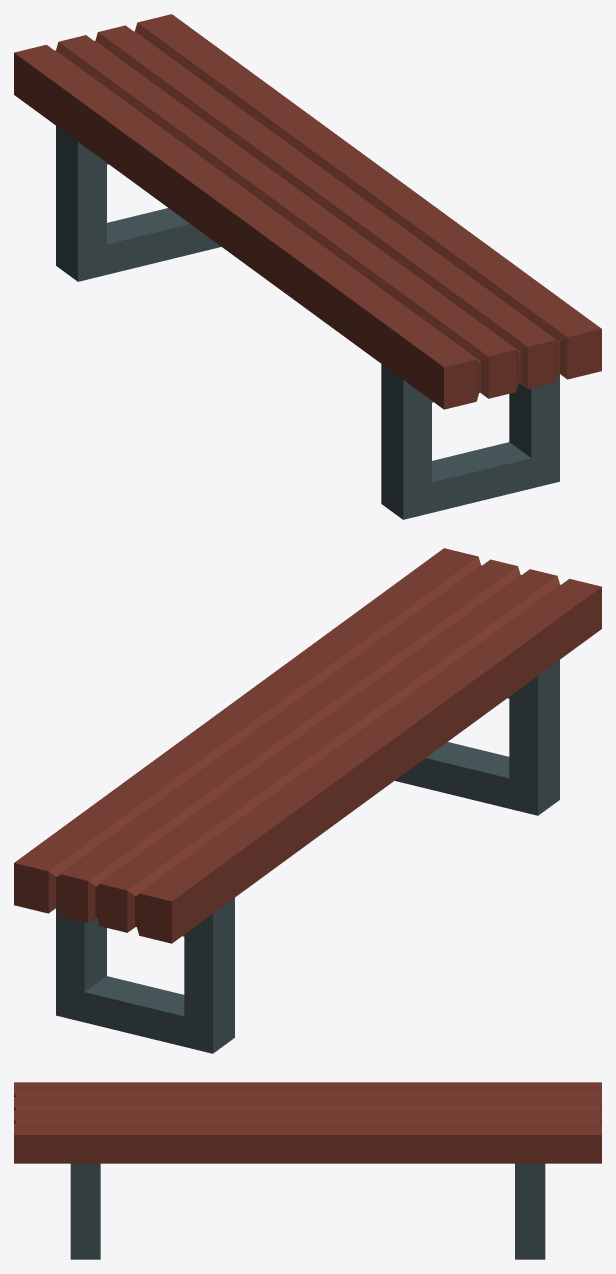
File: Bench.fbx
3 views of the same model, one above another, from view 1: azimuth 30°, elevation 25°; view 2: azimuth 150°, elevation 25°; view 3: azimuth 270°, elevation 25° (orthographic). The views are drawn at different scales.
Visible parts, largest first — view 1: BigPotBush; view 2: BigPotBush; view 3: BigPotBush.
Part boxes in pixels (left/top/right/bottom): BigPotBush: left=14, top=14, right=601, bottom=519; BigPotBush: left=14, top=548, right=601, bottom=1053; BigPotBush: left=14, top=1082, right=601, bottom=1259.
Size of the model in its own units: 53.72 by 59.46 by 253.
